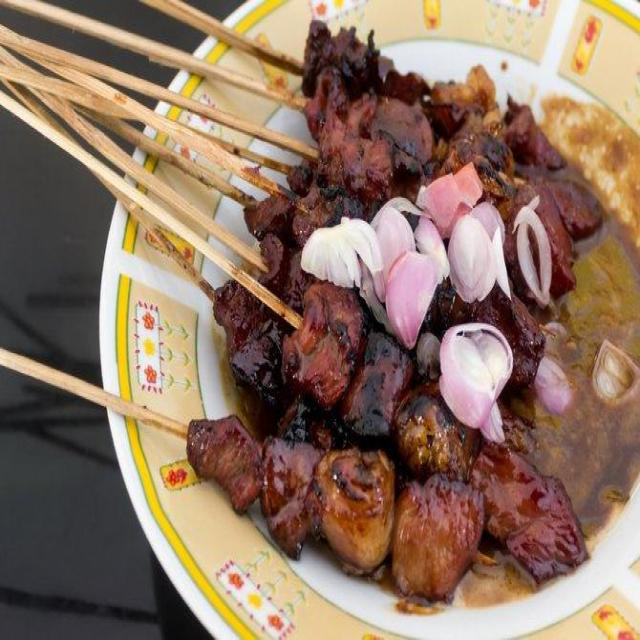Sate: (20, 0, 576, 587)
